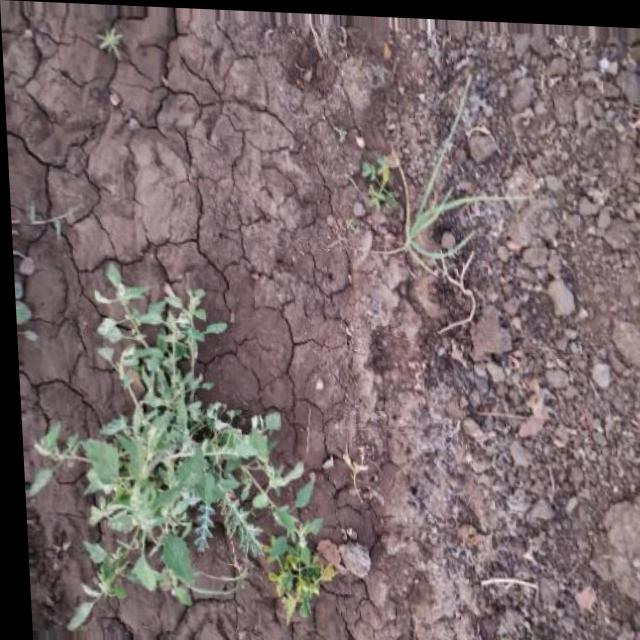weed: (40, 293, 324, 602)
